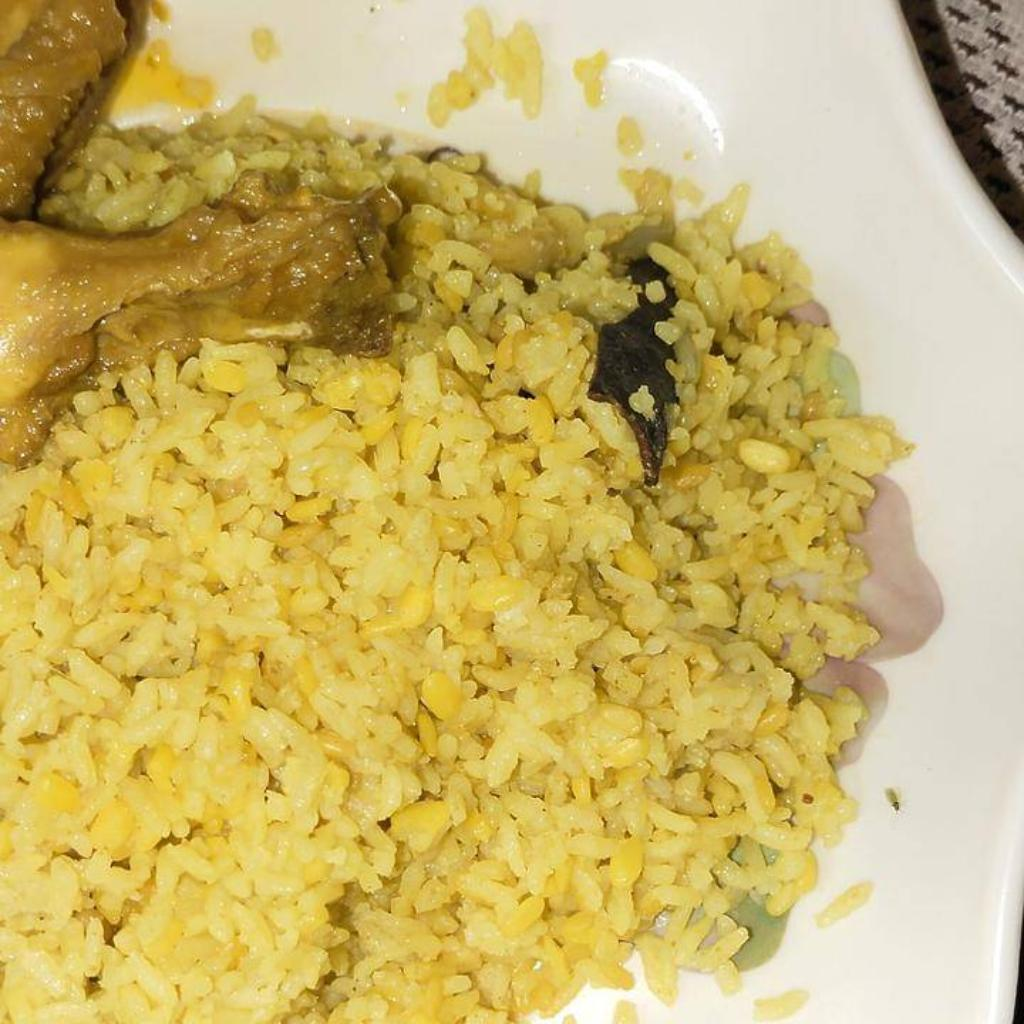chicken: (0, 0, 404, 462)
khichuri: (2, 116, 912, 1023)
